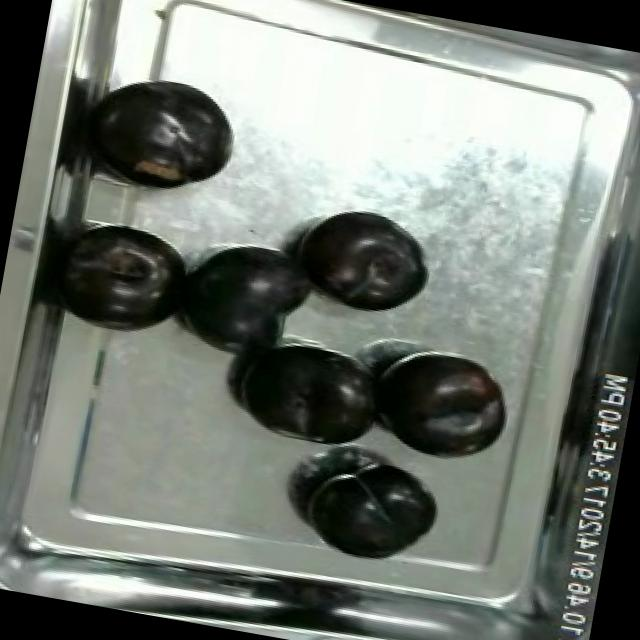Fruit: (76, 58, 248, 208), (163, 225, 325, 378), (221, 328, 397, 464), (292, 441, 453, 574), (281, 194, 443, 324), (358, 338, 516, 471), (50, 210, 197, 346)
